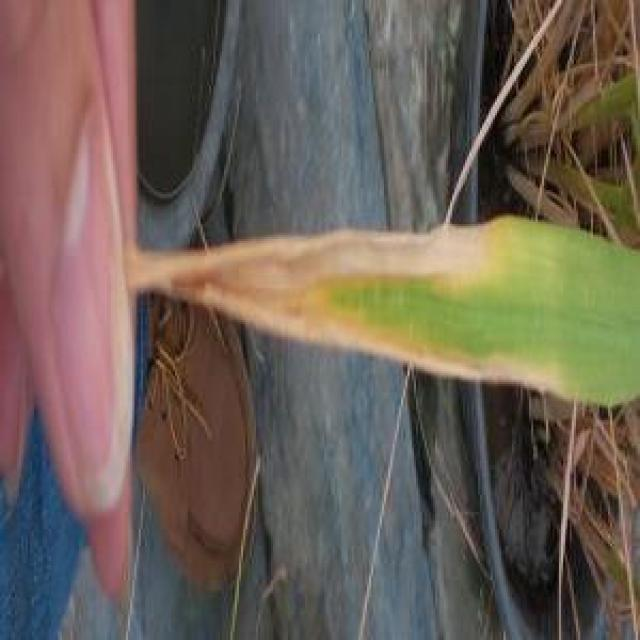Bacterial_Blight: (136, 252, 563, 396), (136, 229, 495, 302)
